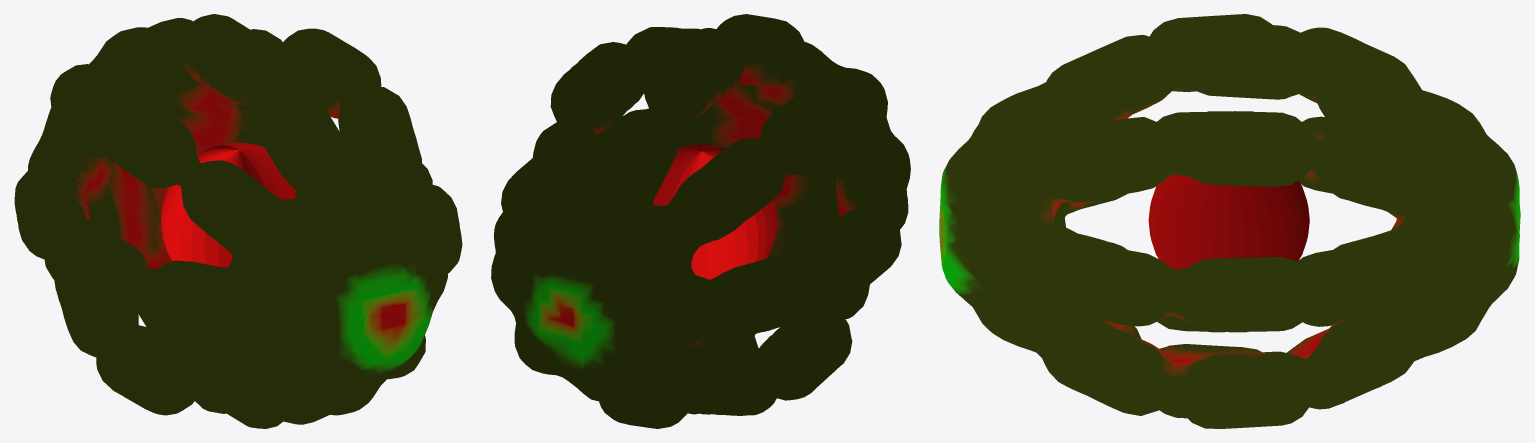
Rendered from soul.glb.
The picture shows the model from 3 angles, left to right: view 1: azimuth 30°, elevation 25°; view 2: azimuth 150°, elevation 25°; view 3: azimuth 270°, elevation 25°; orthographic projection. The views are drawn at different scales.
Visible parts, largest first — view 1: Sphere; view 2: Sphere; view 3: Sphere.
Boxes of the visible parts, left/top/right/bottom form: Sphere: left=14, top=14, right=462, bottom=428; Sphere: left=491, top=14, right=910, bottom=428; Sphere: left=939, top=14, right=1520, bottom=428.
Bounding box in the file's own units: 0.8321 × 0.8314 × 1.12.
